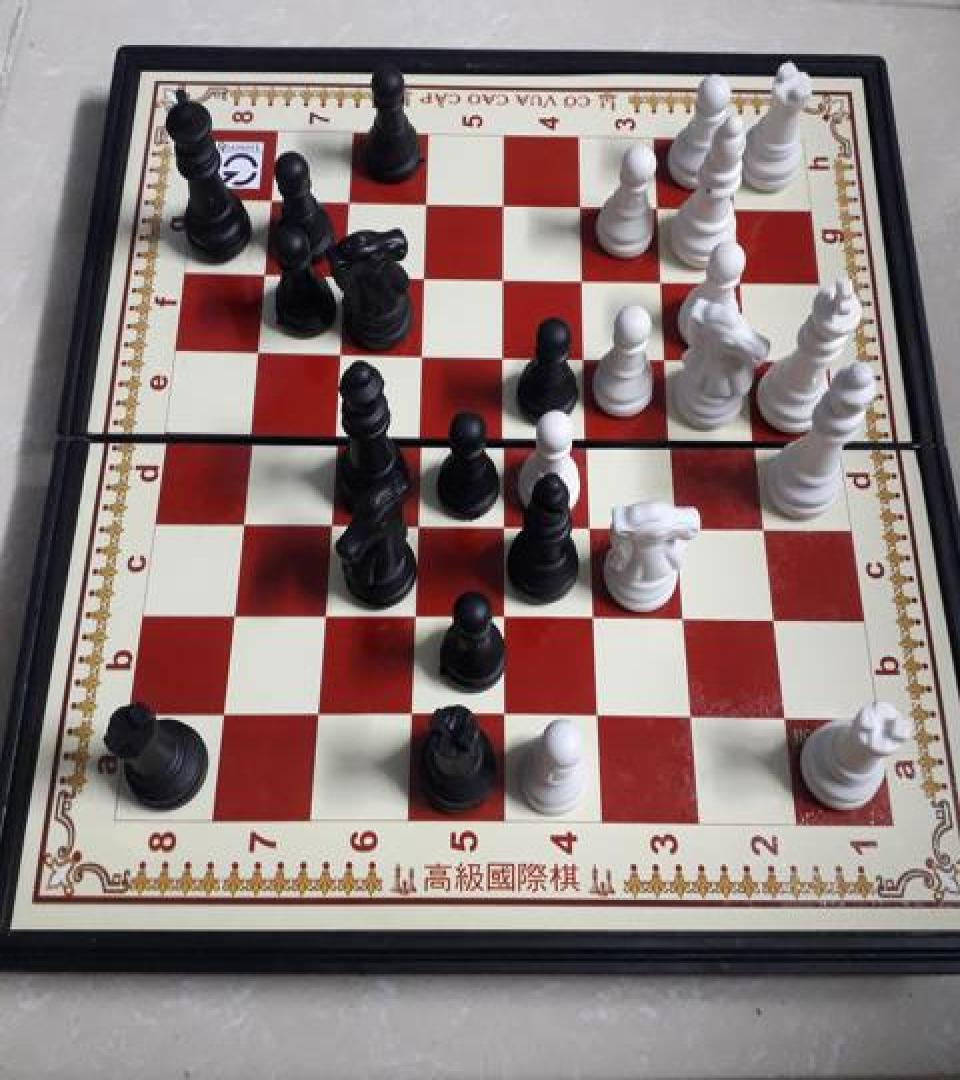xcorner: (210, 696, 242, 733), (304, 697, 336, 734), (399, 697, 431, 734), (492, 698, 524, 735), (586, 698, 618, 735), (679, 700, 711, 736), (771, 700, 803, 736), (219, 596, 251, 632), (310, 598, 342, 634), (401, 598, 433, 634), (492, 598, 524, 634), (582, 598, 614, 634), (672, 600, 704, 636), (761, 601, 793, 637), (227, 503, 259, 539), (315, 503, 347, 539), (403, 504, 435, 540), (491, 505, 523, 541), (578, 505, 610, 541), (665, 506, 697, 542), (752, 508, 784, 544), (235, 414, 267, 450), (320, 415, 352, 451), (405, 416, 437, 452), (490, 418, 522, 454), (575, 418, 607, 454), (659, 420, 691, 456), (743, 420, 775, 456), (242, 332, 274, 368), (325, 333, 357, 369), (407, 334, 439, 370), (490, 335, 522, 371), (572, 336, 604, 372), (653, 338, 685, 374), (735, 338, 767, 374), (249, 254, 281, 290), (329, 256, 361, 292), (409, 256, 441, 292), (489, 258, 521, 294), (569, 259, 601, 295), (648, 260, 680, 296), (727, 261, 759, 297), (255, 181, 287, 217), (333, 182, 365, 218), (411, 184, 443, 220), (489, 184, 521, 220), (643, 187, 675, 223), (720, 189, 752, 225), (566, 186, 598, 221)
